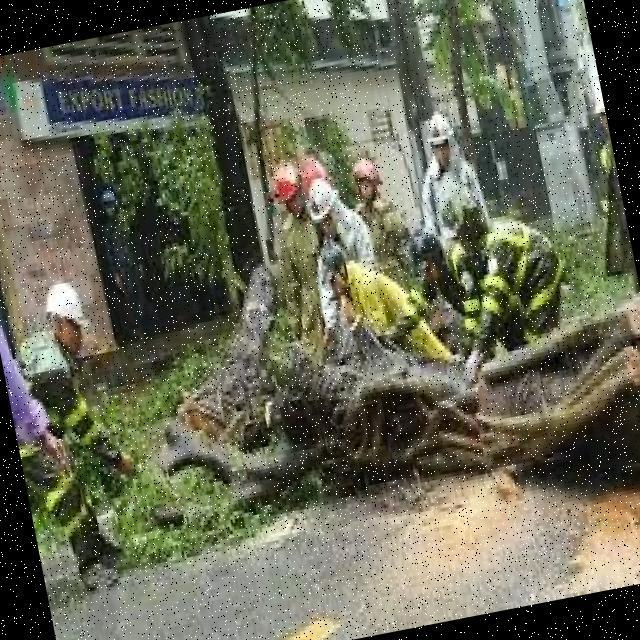fallen_object: (105, 178, 640, 607)
